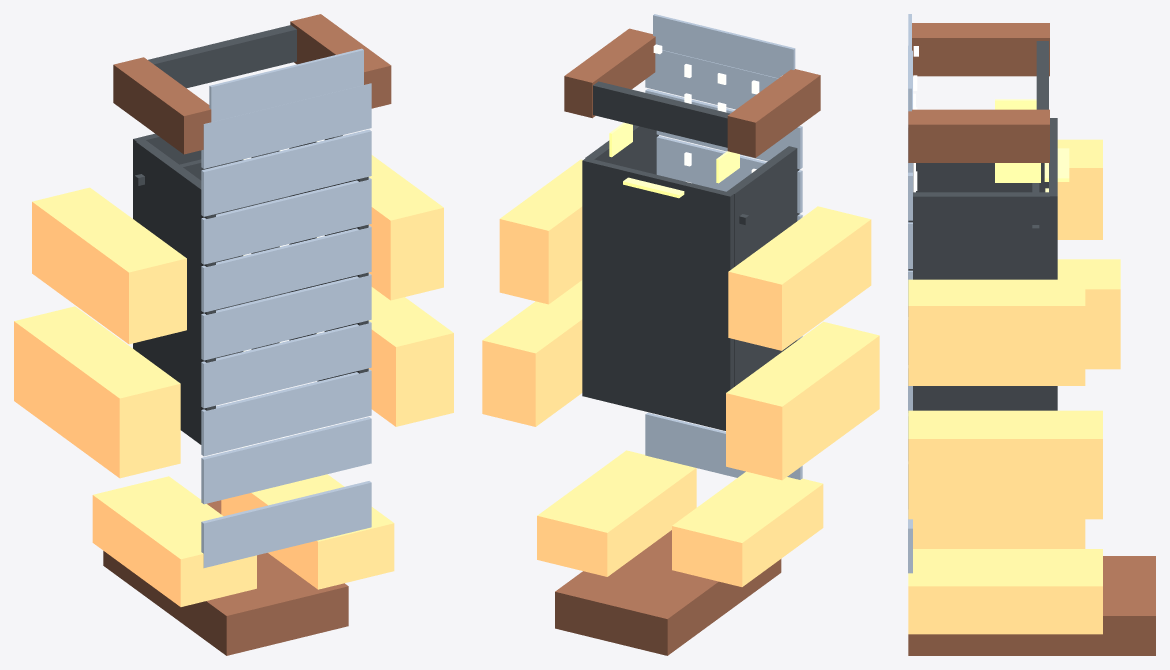
The model's file is interact_finish_frame_canyon.glb.
3 views of the same model, side by side, from view 1: azimuth 30°, elevation 25°; view 2: azimuth 150°, elevation 25°; view 3: azimuth 270°, elevation 25° (orthographic). The views are drawn at different scales.
Visible parts, largest first — view 1: interact_finish_frame_canyon; view 2: interact_finish_frame_canyon; view 3: interact_finish_frame_canyon.
Boxes of the visible parts, box(x1,y1,x2,y2) form: interact_finish_frame_canyon: box(14, 14, 453, 655); interact_finish_frame_canyon: box(482, 14, 879, 655); interact_finish_frame_canyon: box(908, 14, 1155, 655).
Size of the model in its own units: 21.9 by 35.85 by 14.02.
